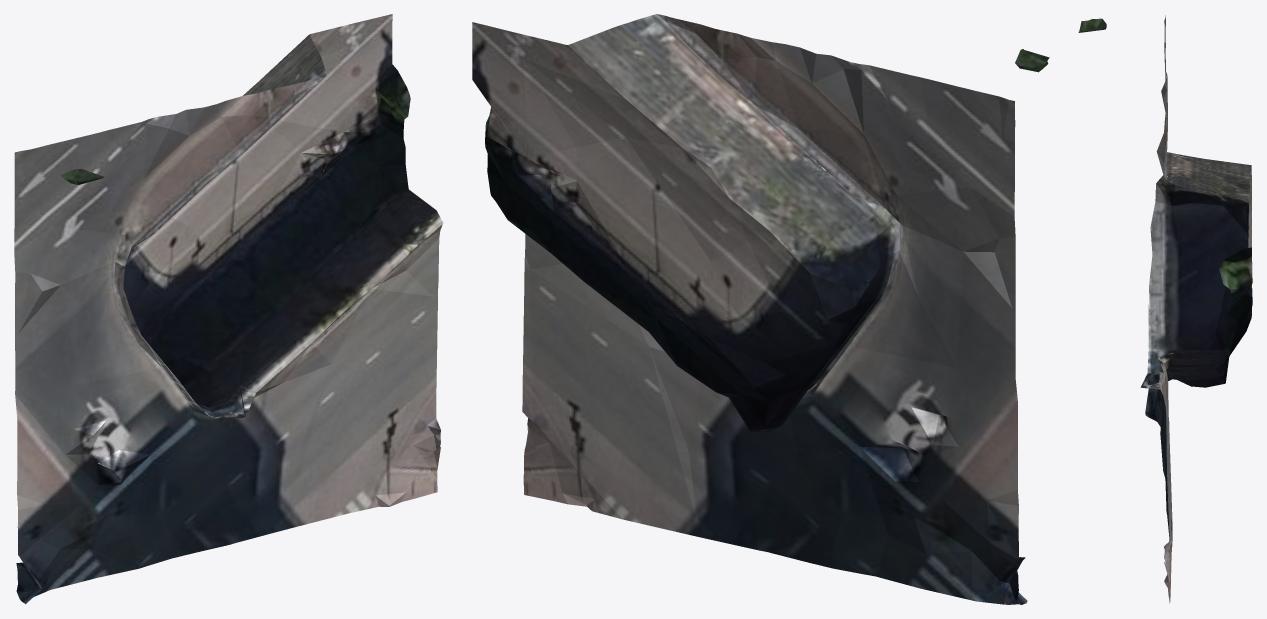
Rendered from Tile_+031_+021_L19_000132.obj.
The picture shows the model from 3 angles, left to right: view 1: azimuth 30°, elevation 25°; view 2: azimuth 150°, elevation 25°; view 3: azimuth 270°, elevation 25°; orthographic projection. The views are drawn at different scales.
Size of the model in its own units: 31.75 by 31.75 by 12.46.
1 material, 1 textured.
